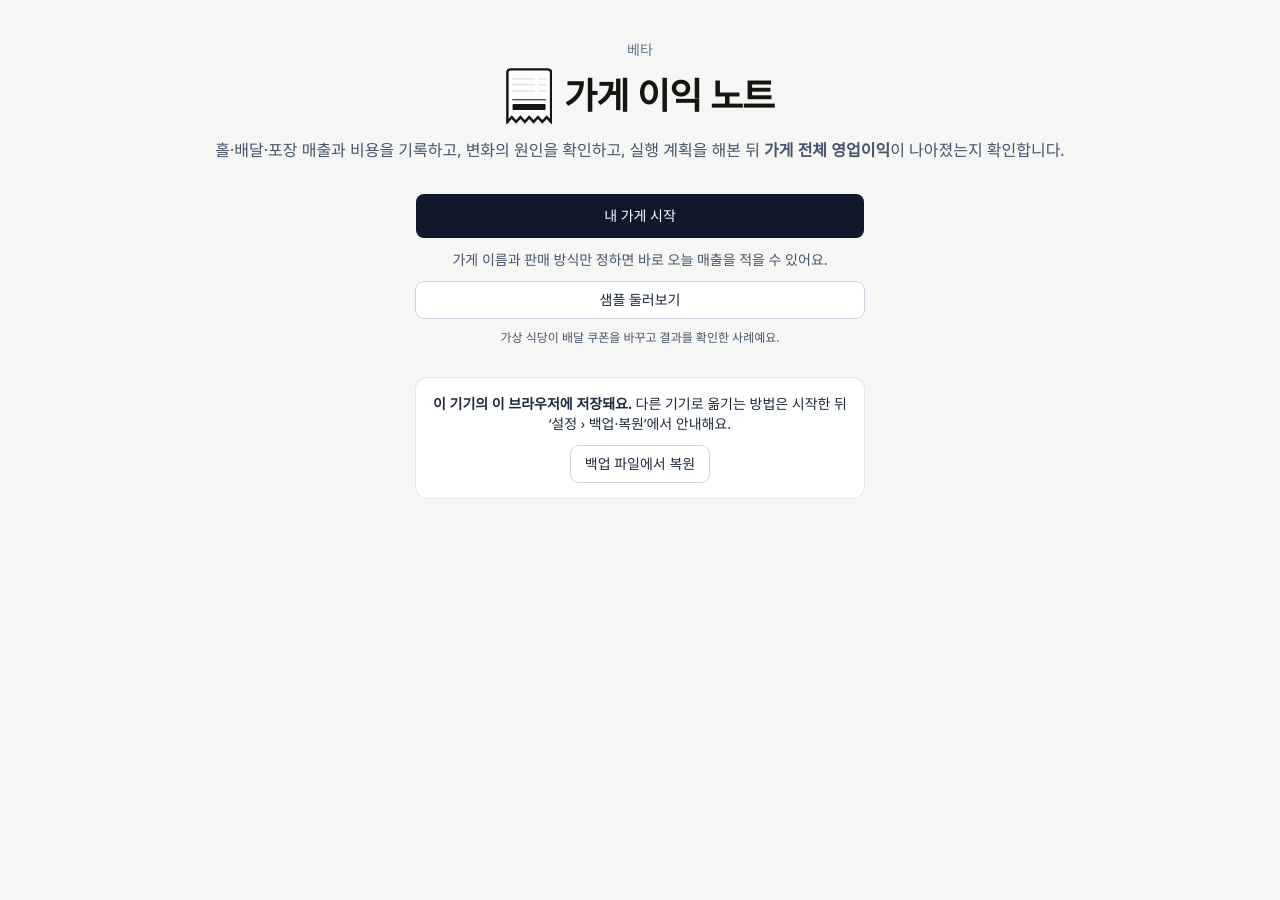
앱 스모크 테스트 › 진단 → 실행 계획 간편 등록(초안 자동 채움) → 성과 확인 안내
The width and height of the screenshot is (1280, 900).
Click the button "샘플 둘러보기" at point(640, 300), box [416, 282, 864, 318]
(page scrolled)
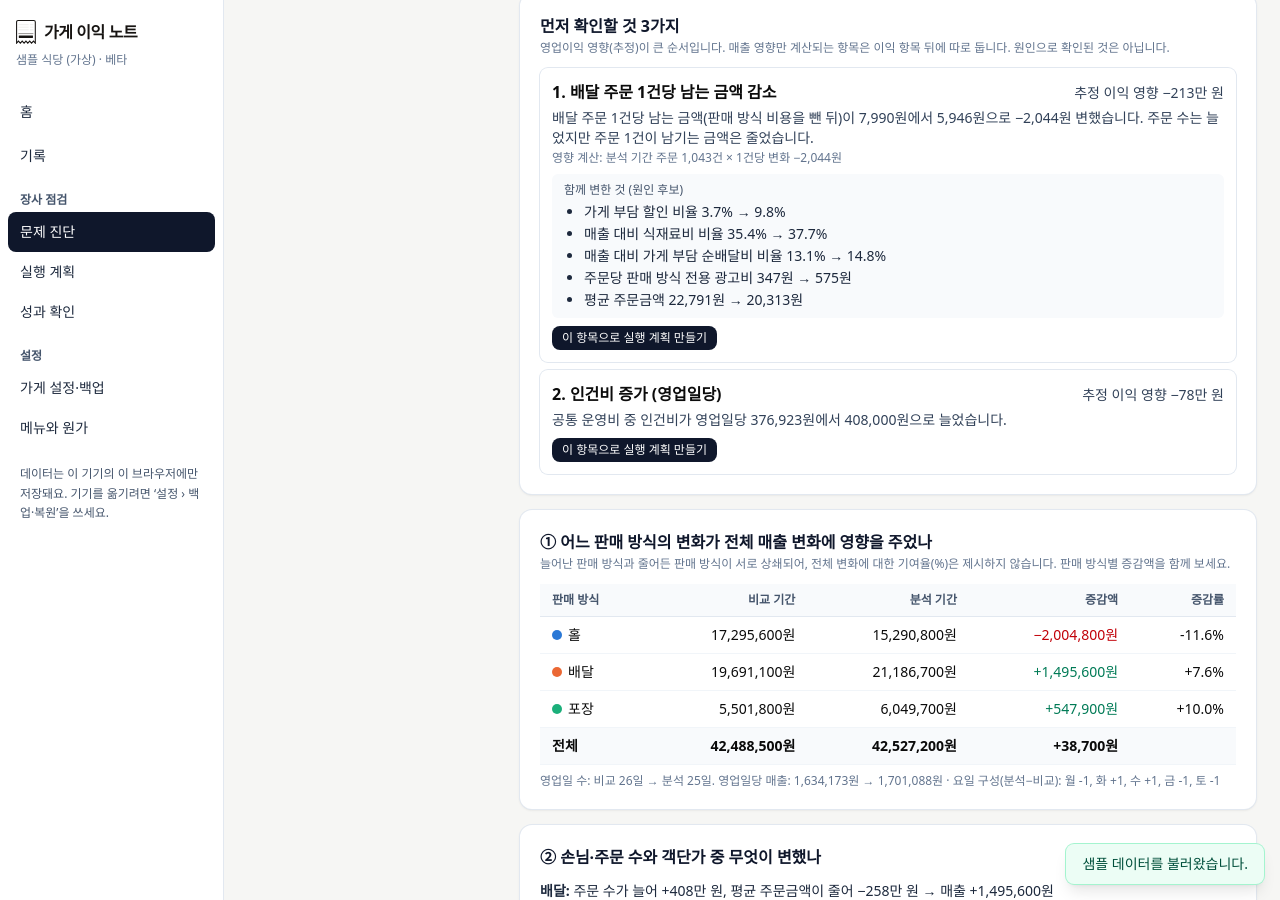
Click the button "이 항목으로 실행 계획 만들기" below "인건비 증가 (영업일당)" at point(634, 450), box [552, 438, 717, 462]
(page scrolled)
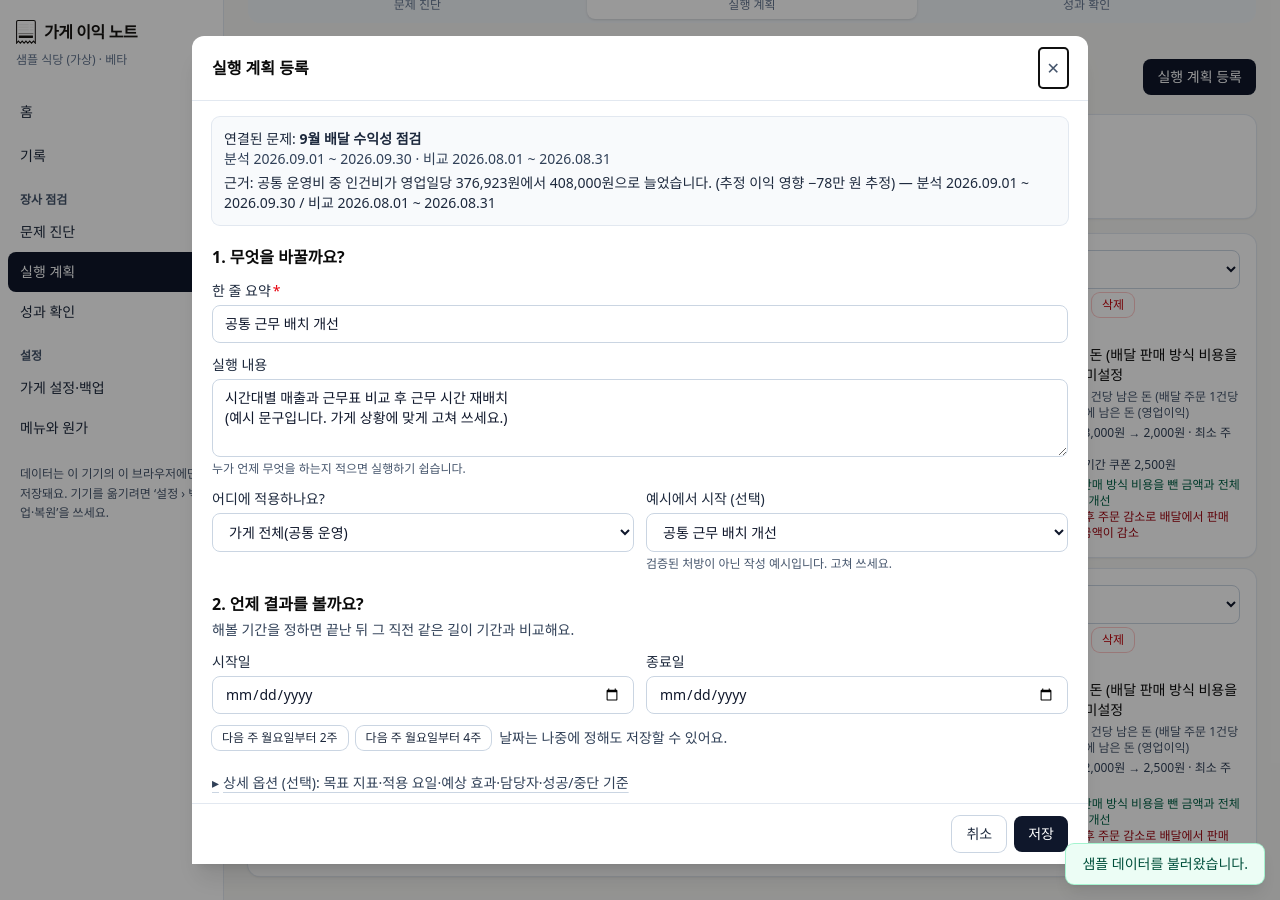
Now the dialog shows "연결된 문제", box [224, 129, 299, 148]
Now the dialog shows "근거:", box [224, 173, 257, 192]
Click the button "다음 주 월요일부터 2주" at point(280, 738), box [212, 726, 348, 750]
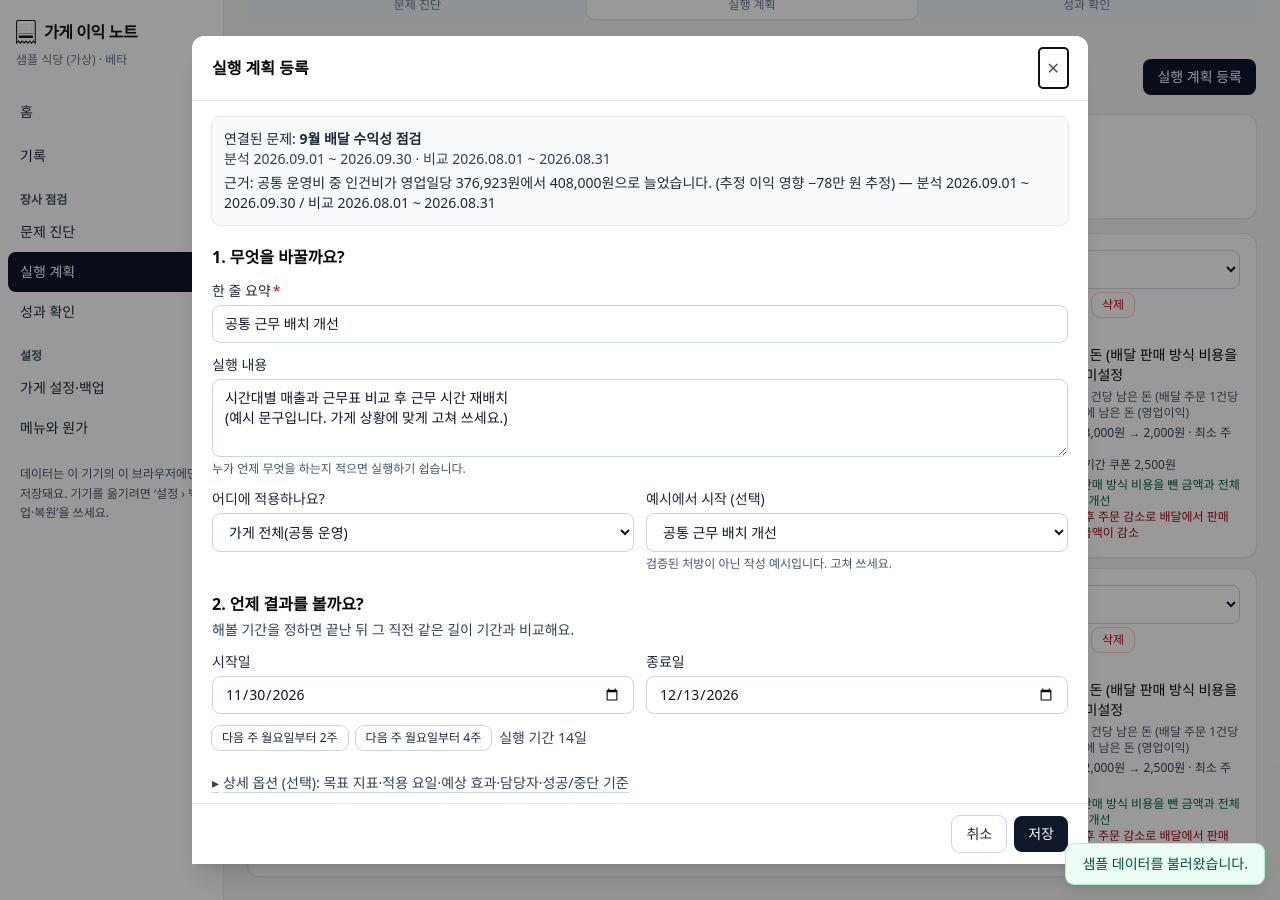
Click the button "저장" at point(1041, 834), box [1014, 816, 1068, 852]
(page scrolled)
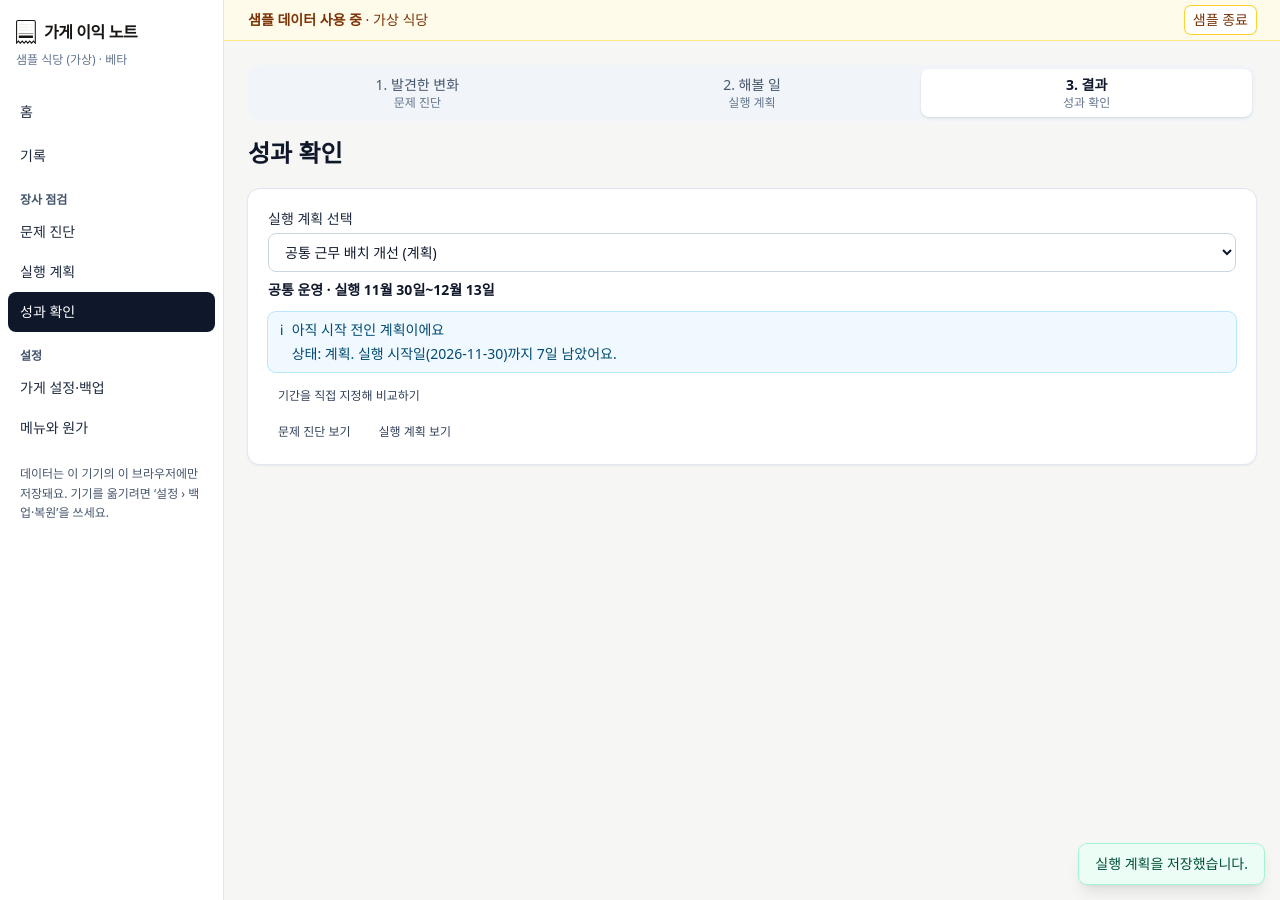
Now the text "실행 계획을 저장했습니다" is shown, box [1095, 854, 1248, 873]
Now the text "아직 시작 전인 계획이에요" is shown, box [292, 320, 444, 339]
Now the text "상태: 계획. 실행 시작일(2026-11-30)까지 7일 남았어요." is shown, box [292, 344, 617, 364]
